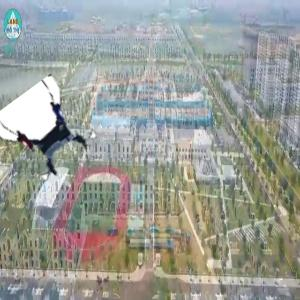drone: (3, 88, 94, 179)
